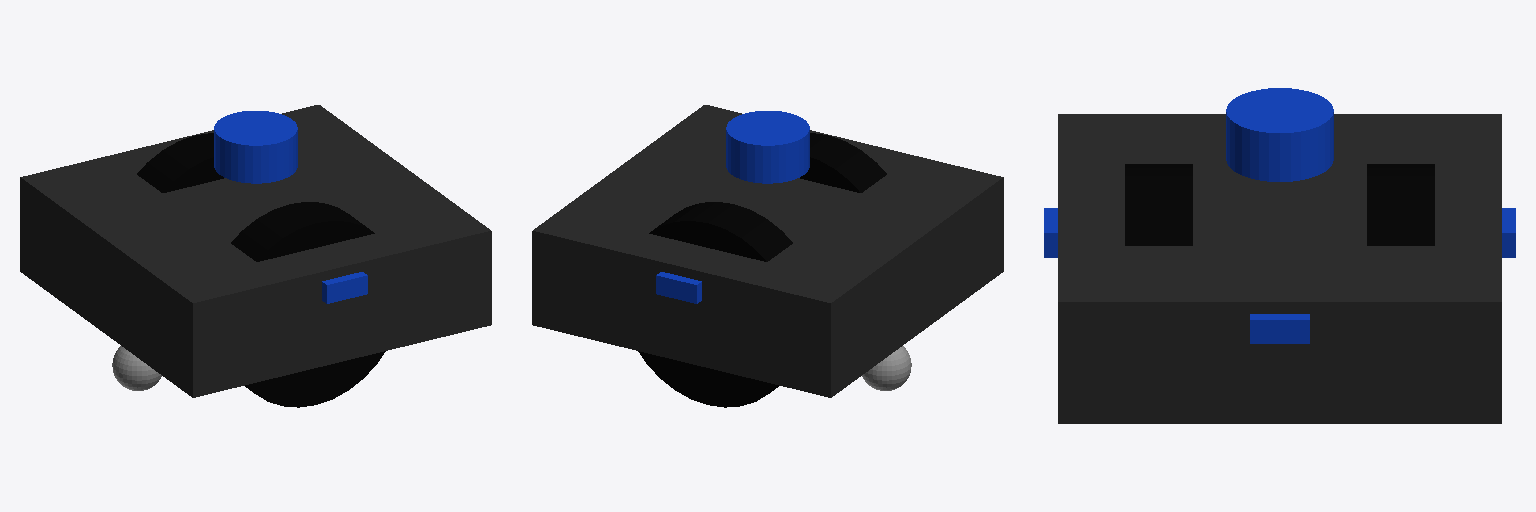
The robot description file, URDF, robot "hoverboard":
<?xml version="1.0"?>
<!--
  Hoverboard robot: 0.33 x 0.33 m square chassis on two 6.5" hoverboard hub
  motors, LD14 LiDAR on top, HC-SR04 sonars at the front, left and right. Replaces Yahboom's
  MicroROS car model.

  Frames the rest of the stack relies on:
    base_footprint  odom -> base_footprint comes from hoverboard_udp_bridge_node
    base_link       Nav2 / Cartographer robot frame
    base_scan       /scan frame_id (udp_lidar_receiver_node)
    wheel_left_joint / wheel_right_joint   names the bridge publishes on
                    /wheel_joint_states
  Multi-robot: do not copy this file; the launch files add a frame_prefix
  (robot1/base_link, ...).

  Numbers to keep in step with hoverboard_base_node/config/hoverboard_base.yaml:
    wheel radius 0.09615 m (verified), wheel separation 0.18 m (NOT yet
    verified - wheel joints sit at y = +-separation/2).
  base_scan: 0.15 m above base_link, centred - set it to where the LiDAR is
  really mounted (x forward, y left, yaw of its zero mark), then run
  ~/robot_ws/tools/lidar_mirror_test.py.
-->
<robot name="hoverboard">

  <material name="dark"><color rgba="0.2 0.2 0.2 1.0"/></material>
  <material name="black"><color rgba="0.05 0.05 0.05 1.0"/></material>
  <material name="blue"><color rgba="0.1 0.3 0.8 1.0"/></material>
  <material name="grey"><color rgba="0.6 0.6 0.6 1.0"/></material>

  <link name="base_footprint"/>

  <!-- base_link at axle height: the wheel centre is one wheel radius up. -->
  <joint name="base_joint" type="fixed">
    <parent link="base_footprint"/>
    <child link="base_link"/>
    <origin xyz="0 0 0.09615" rpy="0 0 0"/>
  </joint>

  <link name="base_link">
    <visual>
      <origin xyz="0 0 0.02" rpy="0 0 0"/>
      <geometry><box size="0.33 0.33 0.10"/></geometry>
      <material name="dark"/>
    </visual>
    <collision>
      <origin xyz="0 0 0.02" rpy="0 0 0"/>
      <geometry><box size="0.33 0.33 0.10"/></geometry>
    </collision>
    <inertial>
      <origin xyz="0 0 0" rpy="0 0 0"/>
      <mass value="8.0"/>
      <inertia ixx="0.08" ixy="0" ixz="0" iyy="0.08" iyz="0" izz="0.15"/>
    </inertial>
  </link>

  <joint name="wheel_left_joint" type="continuous">
    <parent link="base_link"/>
    <child link="wheel_left_link"/>
    <origin xyz="0 0.09 0" rpy="-1.5708 0 0"/>
    <axis xyz="0 0 1"/>
  </joint>
  <link name="wheel_left_link">
    <visual>
      <geometry><cylinder length="0.05" radius="0.09615"/></geometry>
      <material name="black"/>
    </visual>
    <collision>
      <geometry><cylinder length="0.05" radius="0.09615"/></geometry>
    </collision>
    <inertial>
      <mass value="2.5"/>
      <inertia ixx="0.006" ixy="0" ixz="0" iyy="0.006" iyz="0" izz="0.0115"/>
    </inertial>
  </link>

  <joint name="wheel_right_joint" type="continuous">
    <parent link="base_link"/>
    <child link="wheel_right_link"/>
    <origin xyz="0 -0.09 0" rpy="-1.5708 0 0"/>
    <axis xyz="0 0 1"/>
  </joint>
  <link name="wheel_right_link">
    <visual>
      <geometry><cylinder length="0.05" radius="0.09615"/></geometry>
      <material name="black"/>
    </visual>
    <collision>
      <geometry><cylinder length="0.05" radius="0.09615"/></geometry>
    </collision>
    <inertial>
      <mass value="2.5"/>
      <inertia ixx="0.006" ixy="0" ixz="0" iyy="0.006" iyz="0" izz="0.0115"/>
    </inertial>
  </link>

  <!-- Rear caster keeping the chassis level. -->
  <joint name="caster_joint" type="fixed">
    <parent link="base_link"/>
    <child link="caster_link"/>
    <origin xyz="-0.13 0 -0.07" rpy="0 0 0"/>
  </joint>
  <link name="caster_link">
    <visual>
      <geometry><sphere radius="0.025"/></geometry>
      <material name="grey"/>
    </visual>
    <collision>
      <geometry><sphere radius="0.025"/></geometry>
    </collision>
  </link>

  <joint name="scan_joint" type="fixed">
    <parent link="base_link"/>
    <child link="base_scan"/>
    <origin xyz="0 0 0.15" rpy="0 0 0"/>  <!-- LiDAR 0 deg faces forward -->
  </joint>
  <link name="base_scan">
    <visual>
      <origin xyz="0 0 -0.02" rpy="0 0 0"/>
      <geometry><cylinder length="0.04" radius="0.04"/></geometry>
      <material name="blue"/>
    </visual>
  </link>

  <!-- HC-SR04 at the front edge, facing forward (sonar.h, SONAR_TRIG/ECHO_PIN). -->
  <joint name="sonar_joint" type="fixed">
    <parent link="base_link"/>
    <child link="sonar_link"/>
    <origin xyz="0.165 0 0.05" rpy="0 0 0"/>
  </joint>
  <link name="sonar_link">
    <visual>
      <geometry><box size="0.02 0.045 0.02"/></geometry>
      <material name="blue"/>
    </visual>
  </link>

  <!-- Side HC-SR04s at the middle of the left and right edges, facing
       outwards (x along the beam, as for sonar_link). The firmware turns the
       robot away below 50 mm. Placeholder x - set it to where they are really
       mounted. Topics: /ultrasonic/left/*, /ultrasonic/right/*. -->
  <joint name="sonar_left_joint" type="fixed">
    <parent link="base_link"/>
    <child link="sonar_left_link"/>
    <origin xyz="0 0.165 0.05" rpy="0 0 1.5708"/>
  </joint>
  <link name="sonar_left_link">
    <visual>
      <geometry><box size="0.02 0.045 0.02"/></geometry>
      <material name="blue"/>
    </visual>
  </link>

  <joint name="sonar_right_joint" type="fixed">
    <parent link="base_link"/>
    <child link="sonar_right_link"/>
    <origin xyz="0 -0.165 0.05" rpy="0 0 -1.5708"/>
  </joint>
  <link name="sonar_right_link">
    <visual>
      <geometry><box size="0.02 0.045 0.02"/></geometry>
      <material name="blue"/>
    </visual>
  </link>

  <!-- MPU9250 IMU (/imu/data, frame imu_link), on I2C to the ESP32. Placeholder
       pose: set xyz to where the board is really mounted, and rpy so that the
       chip's X/Y/Z (printed on the breakout) map onto base_link's
       forward/left/up. Check: robot still, linear_acceleration.z ~ +9.8;
       turning left (counter-clockwise), angular_velocity.z > 0. -->
  <joint name="imu_joint" type="fixed">
    <parent link="base_link"/>
    <child link="imu_link"/>
    <origin xyz="0 0 0.05" rpy="0 0 0"/>
  </joint>
  <link name="imu_link">
    <visual>
      <geometry><box size="0.027 0.02 0.004"/></geometry>
      <material name="blue"/>
    </visual>
  </link>

</robot>

--- What the picture shows (computed from the rendered views, not written in the file) ---
The picture shows the robot from 3 angles, left to right: view 1: azimuth 30°, elevation 25°; view 2: azimuth 150°, elevation 25°; view 3: azimuth 270°, elevation 25°; orthographic projection.
Model hoverboard with 10 links and 9 joints (2 continuous, 7 fixed), rooted at base_footprint, posed all joints at 0.
Links seen in each view (by area): view 1: base_link, wheel_right_link, base_scan, wheel_left_link, caster_link, sonar_right_link; view 2: base_link, wheel_left_link, base_scan, wheel_right_link, caster_link, sonar_left_link; view 3: base_link, base_scan, wheel_left_link, wheel_right_link, sonar_link, sonar_left_link, sonar_right_link.
Link boxes in pixels (x1,y1,x2,y2): base_link: (20, 105, 491, 397); wheel_right_link: (231, 202, 385, 407); base_scan: (214, 111, 297, 183); wheel_left_link: (137, 133, 223, 192); caster_link: (112, 346, 161, 390); sonar_right_link: (322, 272, 367, 303); base_link: (532, 105, 1003, 397); wheel_left_link: (638, 202, 792, 407); base_scan: (726, 111, 809, 183); wheel_right_link: (800, 133, 886, 192); caster_link: (862, 346, 911, 390); sonar_left_link: (656, 272, 701, 303); base_link: (1058, 114, 1501, 423); base_scan: (1226, 88, 1333, 181); wheel_left_link: (1367, 164, 1434, 245); wheel_right_link: (1125, 164, 1192, 245); sonar_link: (1250, 314, 1309, 343); sonar_left_link: (1502, 208, 1515, 257); sonar_right_link: (1044, 208, 1057, 257).
Bounding box of the posed robot: 0.34 × 0.35 × 0.2462 m (x, y, z).
Geometry: primitives only (box / cylinder / sphere), no mesh files.
